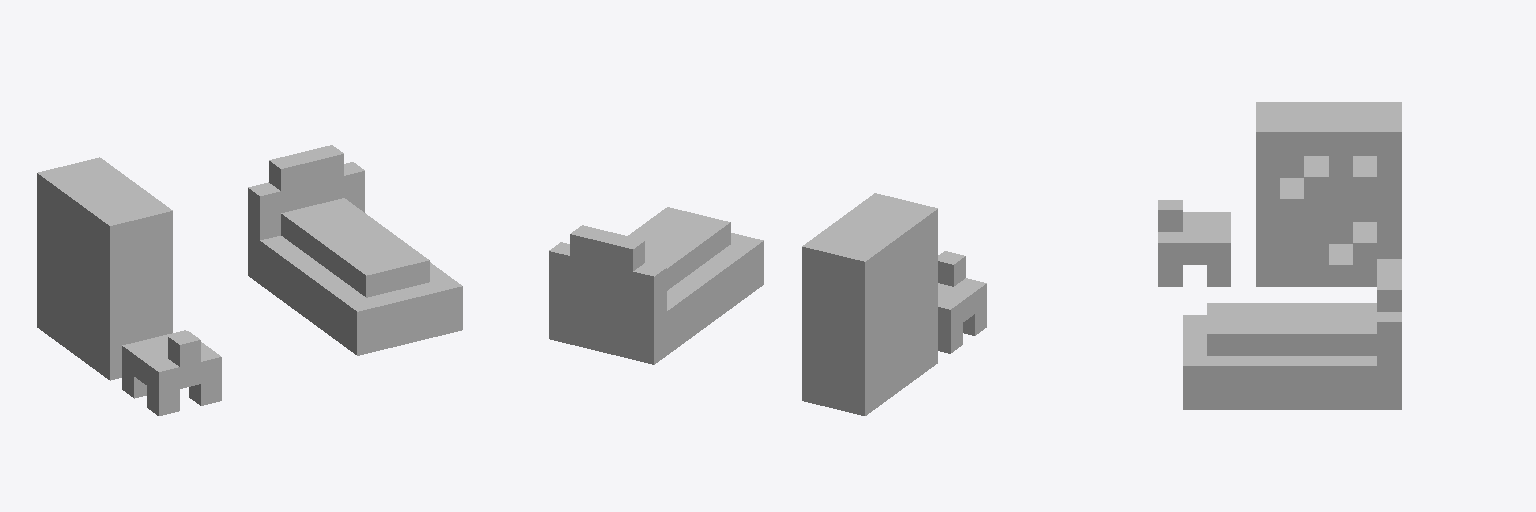
Rendered from Farm House-2.obj.
3 views of the same model, side by side, from view 1: azimuth 30°, elevation 25°; view 2: azimuth 150°, elevation 25°; view 3: azimuth 270°, elevation 25° (orthographic).
Parts seen in each view (by area): view 1: object 1; view 2: object 1; view 3: object 1.
Boxes of the visible parts, x1,y1,x2,y2 form: object 1: [37, 145, 462, 415]; object 1: [549, 193, 986, 415]; object 1: [1158, 102, 1401, 409].
Bounding box in the file's own units: 1.5 × 0.7 × 1.